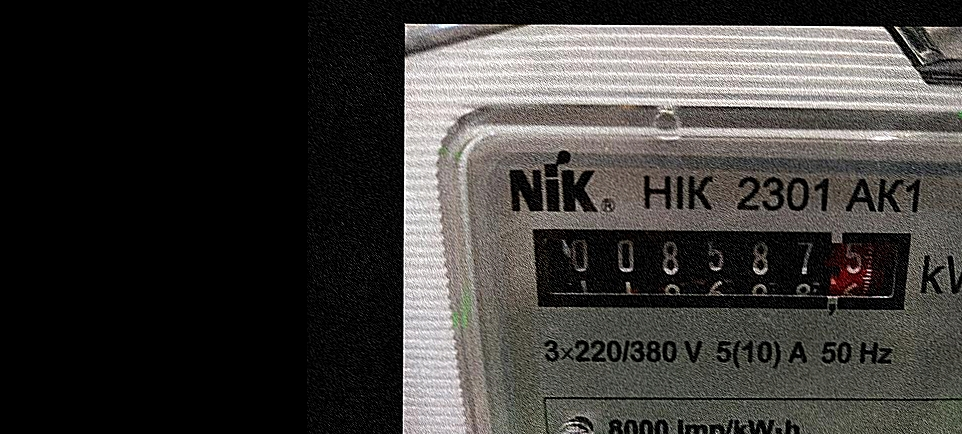0: (613, 234, 637, 274)
1: (567, 234, 591, 275)
5: (842, 236, 866, 276), (704, 236, 727, 274)
7: (793, 237, 816, 278)
8: (657, 236, 682, 277), (749, 237, 770, 278)
screen: (512, 208, 931, 330)
